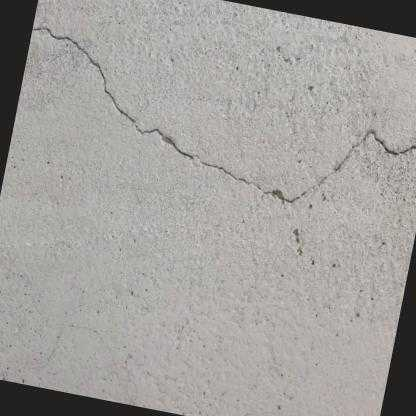crack: (31, 24, 416, 205)
